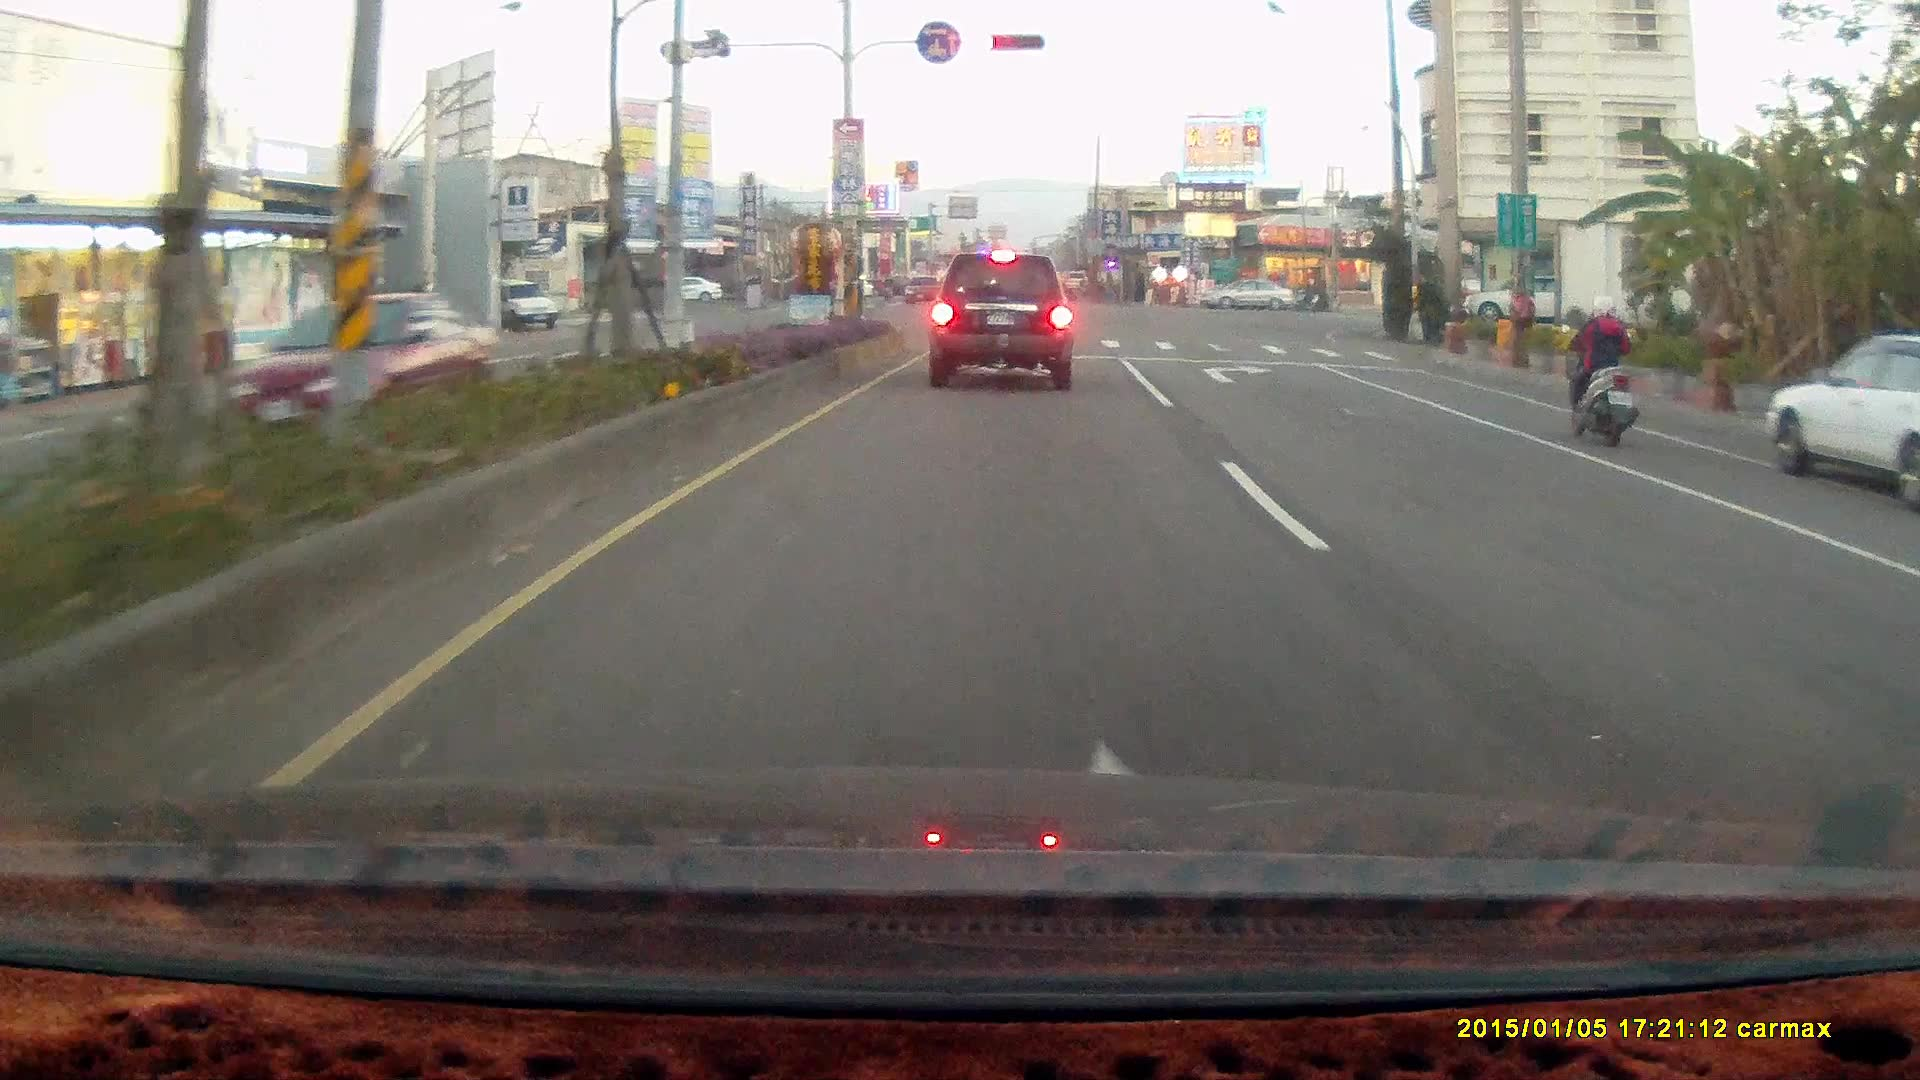rider: (1557, 291, 1639, 446), (1291, 276, 1320, 313)
vehicle: (1762, 335, 1920, 505), (1762, 334, 1919, 504), (928, 251, 1076, 391), (1896, 493, 1920, 836), (1462, 273, 1585, 330), (1883, 528, 1920, 690), (489, 279, 561, 331), (1197, 279, 1295, 316), (1197, 276, 1294, 312)
